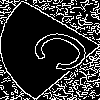C: (25, 25, 100, 83)
